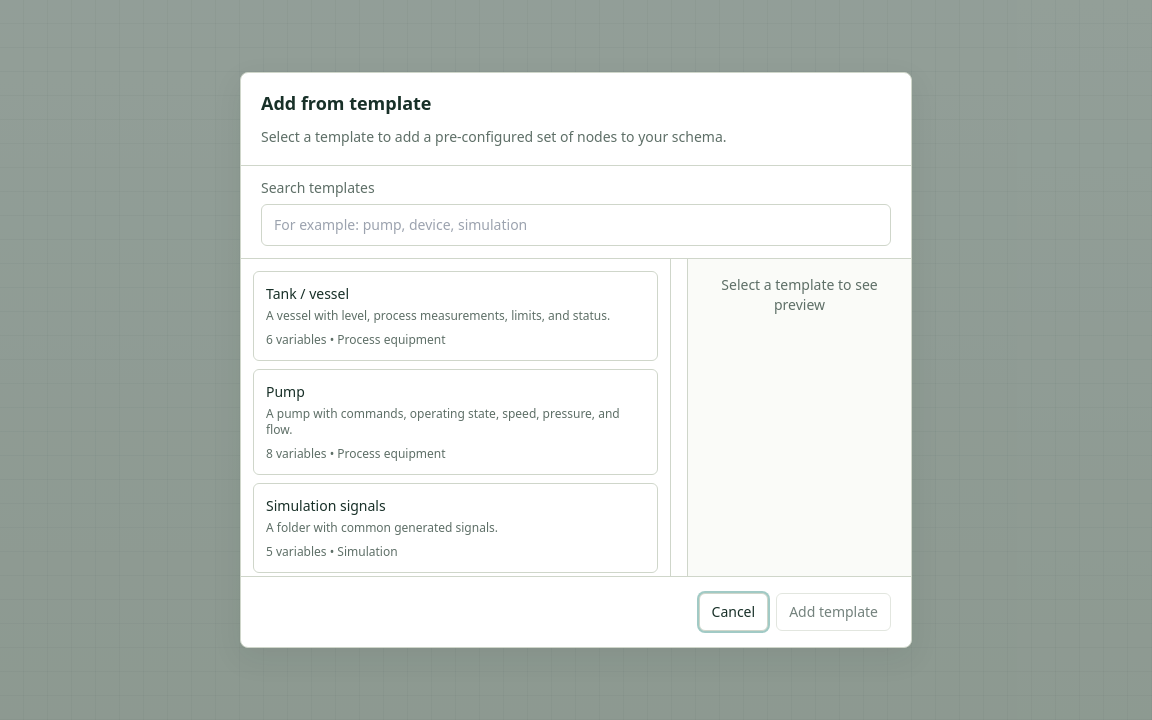
Test: TemplatePickerModal › filters templates by search query
The image size is (1152, 720).
Type "pump" into the field with placeholder "For example: pump, device, simulation".
click(576, 225); type("pump")  # box [261,204,891,246]
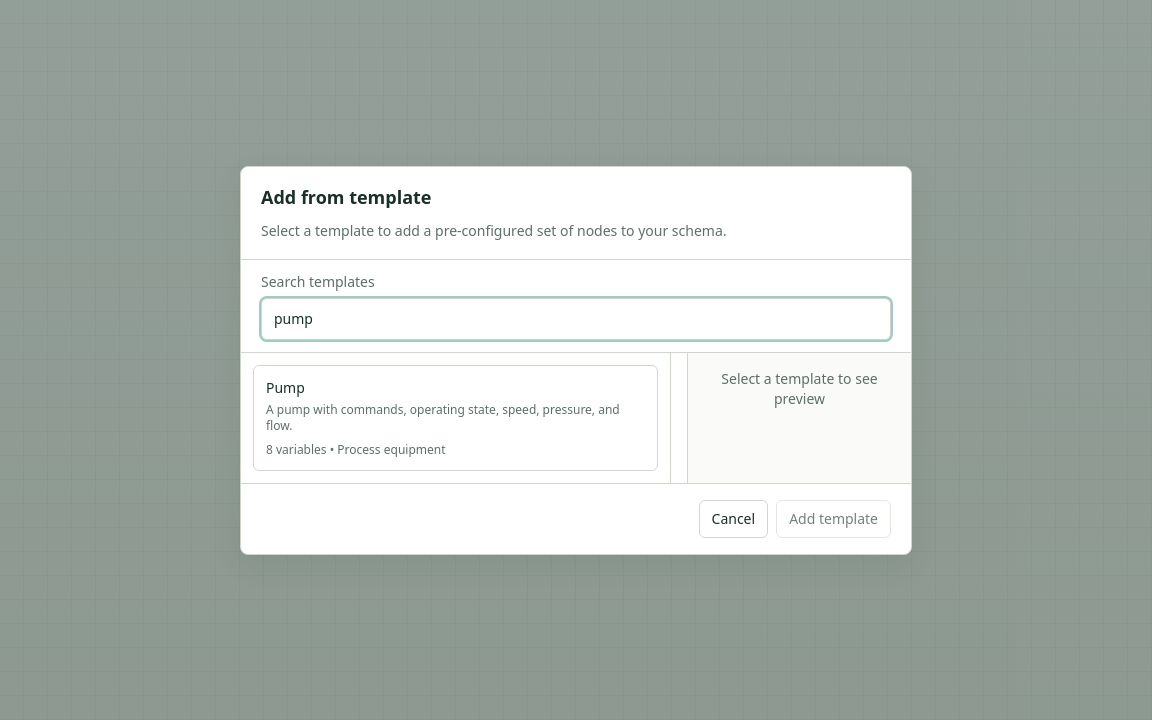
Expected: the text "Pump" is shown, [266,378,305,396]
Now the button "Tank / vessel" is gone
Now the button "Simulation signals" is gone
